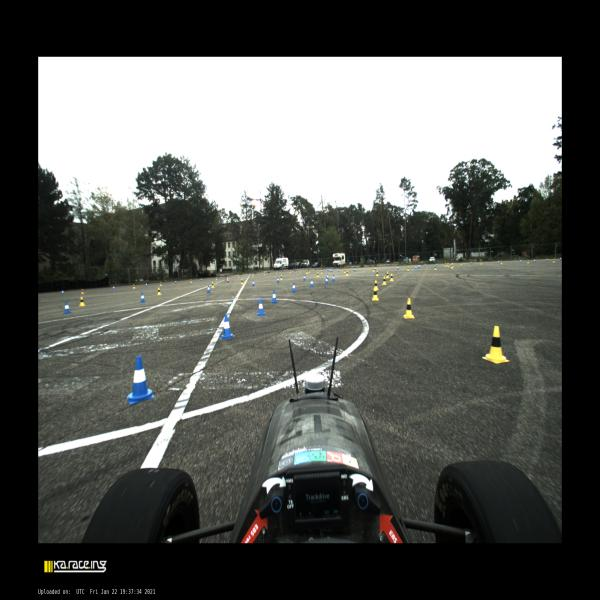blue_cone: (128, 356, 154, 405), (220, 315, 235, 339), (256, 299, 266, 316), (63, 301, 72, 314), (271, 290, 279, 304), (291, 282, 297, 292), (140, 292, 146, 302), (251, 279, 256, 287), (207, 285, 211, 293), (310, 279, 314, 287), (276, 276, 280, 283), (332, 274, 335, 282), (325, 277, 328, 284), (303, 274, 306, 280), (327, 274, 329, 280), (353, 268, 356, 272), (61, 290, 64, 294), (374, 266, 377, 270), (113, 285, 115, 290), (338, 268, 340, 272), (397, 266, 399, 270), (415, 265, 417, 269), (146, 283, 148, 287), (175, 280, 177, 284), (418, 264, 420, 268), (520, 259, 522, 263), (560, 256, 562, 260), (498, 260, 500, 264), (313, 268, 315, 272), (327, 268, 329, 272), (534, 259, 536, 262), (546, 258, 548, 261), (436, 263, 438, 266), (220, 276, 222, 279), (331, 269, 333, 272), (200, 278, 202, 280), (419, 264, 420, 268), (424, 264, 426, 266), (236, 274, 237, 278), (277, 271, 279, 273), (291, 270, 293, 272), (324, 268, 325, 272), (329, 268, 330, 272), (330, 268, 331, 272), (302, 270, 304, 272), (471, 261, 472, 264), (262, 272, 263, 274)
yellow_cone: (482, 326, 510, 364), (403, 298, 415, 319), (372, 288, 379, 301), (79, 296, 86, 306), (373, 280, 379, 290), (382, 276, 387, 285), (157, 288, 162, 295), (375, 270, 379, 276), (390, 274, 393, 281), (386, 271, 389, 278), (211, 282, 214, 288), (346, 270, 349, 276), (280, 275, 283, 280), (317, 272, 320, 277), (407, 266, 410, 271), (81, 289, 84, 294), (434, 265, 437, 270), (552, 258, 555, 263), (241, 278, 243, 284), (344, 268, 346, 274), (320, 270, 323, 274), (308, 269, 311, 273), (373, 267, 375, 272), (444, 262, 446, 267), (447, 262, 449, 267), (480, 260, 482, 265), (133, 284, 135, 288), (160, 282, 162, 286), (190, 279, 192, 283), (306, 270, 308, 274), (450, 264, 452, 268), (452, 264, 454, 268), (500, 260, 502, 264), (527, 260, 529, 264), (460, 262, 462, 265), (238, 274, 239, 278), (290, 270, 291, 273), (264, 272, 265, 275), (252, 273, 253, 276), (216, 277, 217, 280), (276, 271, 277, 274), (300, 270, 301, 272)
